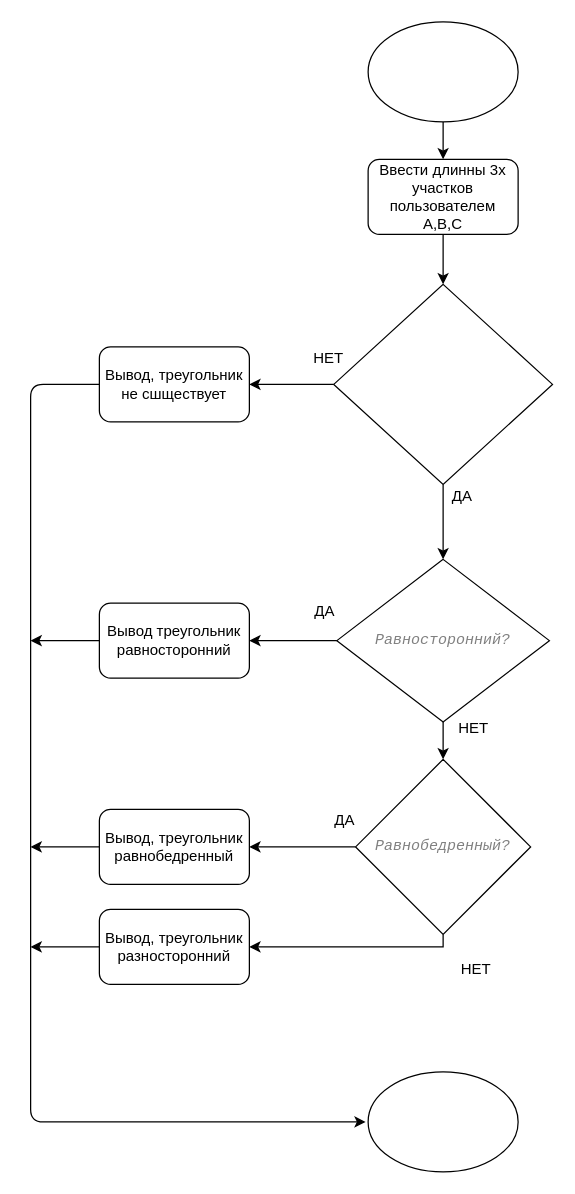
Image size: 575x1194. Some labels were removed from this diagram. The box of each missing label's shape, as (x1, y1, x2, y2) in pixels:
конец: (367, 1071, 518, 1172)
начало: (367, 21, 518, 122)
Определить возможно построение из линий треугольник: (332, 283, 552, 484)
